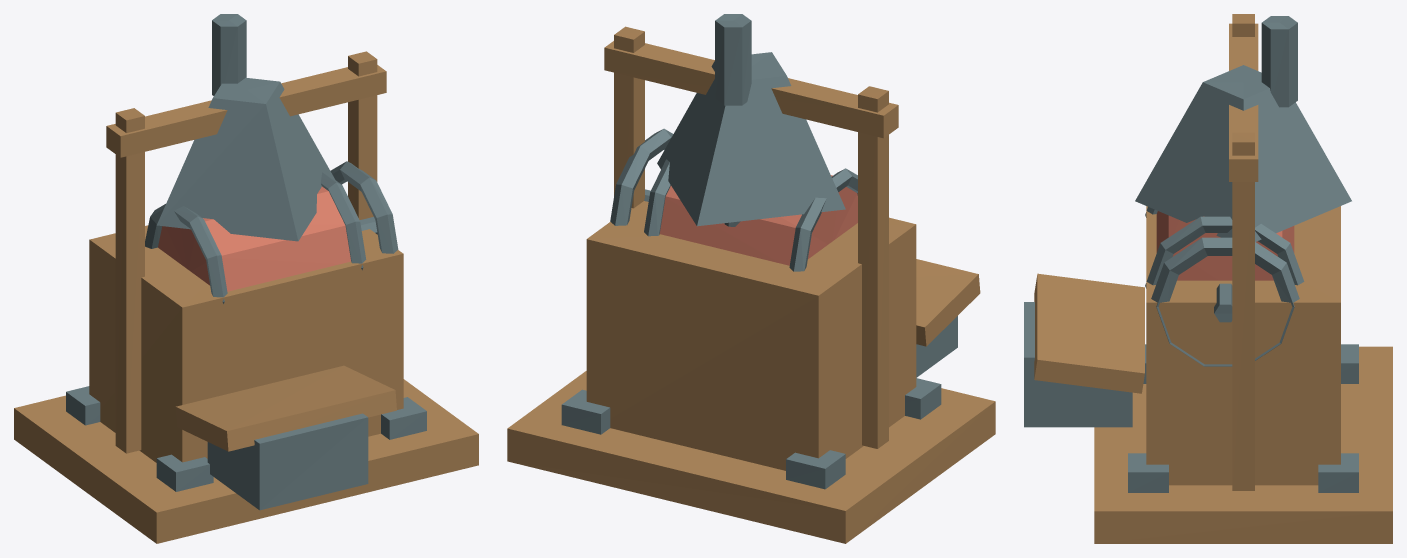
Rendered from spice-mill.source.glb.
3 views of the same model, side by side, from view 1: azimuth 30°, elevation 25°; view 2: azimuth 150°, elevation 25°; view 3: azimuth 270°, elevation 25° (orthographic). The views are drawn at different scales.
Parts seen in each view (by area): view 1: spice-mill-narrow-teal-mill-cabinet-mesh, spice-mill-grounded-practical-base-mesh, spice-mill-empty-upper-feed-hopper-mesh, spice-mill-slender-timber-mill-post-mesh (×2), spice-mill-fine-mesh-sieve-tray-mesh, spice-mill-small-empty-output-bin-mesh, spice-mill-visible-paired-burr-housing-mesh, spice-mill-top-timber-crossbeam-mesh, spice-mill-grounded-mill-foot-mesh (×3), spice-mill-burr-housing-iron-rim-mesh (×2), spice-mill-short-dust-vent-mesh, spice-mill-large-side-handwheel-mesh; view 2: spice-mill-narrow-teal-mill-cabinet-mesh, spice-mill-grounded-practical-base-mesh, spice-mill-empty-upper-feed-hopper-mesh, spice-mill-slender-timber-mill-post-mesh (×2), spice-mill-top-timber-crossbeam-mesh, spice-mill-visible-paired-burr-housing-mesh, spice-mill-grounded-mill-foot-mesh (×3), spice-mill-fine-mesh-sieve-tray-mesh, spice-mill-short-dust-vent-mesh, spice-mill-burr-housing-iron-rim-mesh (×2), spice-mill-large-side-handwheel-mesh, spice-mill-small-empty-output-bin-mesh; view 3: spice-mill-narrow-teal-mill-cabinet-mesh, spice-mill-grounded-practical-base-mesh, spice-mill-empty-upper-feed-hopper-mesh, spice-mill-fine-mesh-sieve-tray-mesh, spice-mill-slender-timber-mill-post-mesh (×2), spice-mill-small-empty-output-bin-mesh, spice-mill-large-side-handwheel-mesh, spice-mill-grounded-mill-foot-mesh (×3), spice-mill-short-dust-vent-mesh, spice-mill-top-timber-crossbeam-mesh, spice-mill-burr-housing-iron-rim-mesh, spice-mill-visible-paired-burr-housing-mesh (+1 smaller).
Boxes of the visible parts, x1,y1,x2,y2 form: spice-mill-narrow-teal-mill-cabinet-mesh: (89,225,403,462); spice-mill-grounded-practical-base-mesh: (14,379,478,543); spice-mill-empty-upper-feed-hopper-mesh: (157,77,335,241); spice-mill-slender-timber-mill-post-mesh (×2): (115,51,377,453); spice-mill-fine-mesh-sieve-tray-mesh: (175,365,396,451); spice-mill-small-empty-output-bin-mesh: (207,413,368,510); spice-mill-visible-paired-burr-housing-mesh: (158,186,350,291); spice-mill-top-timber-crossbeam-mesh: (106,65,386,157); spice-mill-grounded-mill-foot-mesh (×3): (66,386,426,491); spice-mill-burr-housing-iron-rim-mesh (×2): (145,172,366,303); spice-mill-short-dust-vent-mesh: (212,14,246,95); spice-mill-large-side-handwheel-mesh: (330,161,398,253); spice-mill-narrow-teal-mill-cabinet-mesh: (586,201,916,470); spice-mill-grounded-practical-base-mesh: (507,371,995,543); spice-mill-empty-upper-feed-hopper-mesh: (657,52,845,226); spice-mill-slender-timber-mill-post-mesh (×2): (614,26,888,448); spice-mill-top-timber-crossbeam-mesh: (604,41,898,138); spice-mill-visible-paired-burr-housing-mesh: (659,175,857,265); spice-mill-grounded-mill-foot-mesh (×3): (561,378,941,489); spice-mill-fine-mesh-sieve-tray-mesh: (916,259,980,346); spice-mill-short-dust-vent-mesh: (715,14,751,105); spice-mill-burr-housing-iron-rim-mesh (×2): (644,159,857,271); spice-mill-large-side-handwheel-mesh: (610,128,673,225); spice-mill-small-empty-output-bin-mesh: (916,316,957,377); spice-mill-narrow-teal-mill-cabinet-mesh: (1146,206,1340,485); spice-mill-grounded-practical-base-mesh: (1094,346,1392,543); spice-mill-empty-upper-feed-hopper-mesh: (1135,65,1351,241); spice-mill-fine-mesh-sieve-tray-mesh: (1034,273,1144,393); spice-mill-slender-timber-mill-post-mesh (×2): (1232,14,1254,490); spice-mill-small-empty-output-bin-mesh: (1024,302,1132,427); spice-mill-large-side-handwheel-mesh: (1151,237,1299,366); spice-mill-grounded-mill-foot-mesh (×3): (1128,344,1358,492); spice-mill-short-dust-vent-mesh: (1261,16,1297,107); spice-mill-top-timber-crossbeam-mesh: (1229,23,1258,181); spice-mill-burr-housing-iron-rim-mesh: (1145,216,1304,288); spice-mill-visible-paired-burr-housing-mesh: (1156,211,1294,280).
Bounding box in the file's own units: 1.72 × 2.14 × 1.63.
